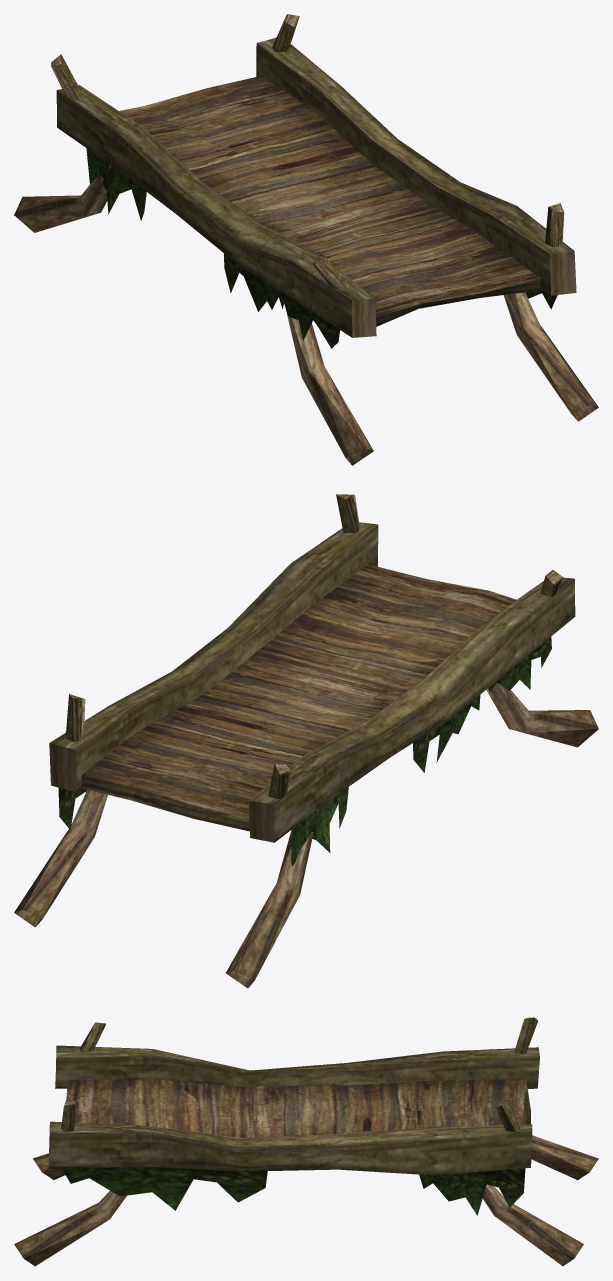
Rendered from general_obj_bridge.fbx.
3 views of the same model, one above another, from view 1: azimuth 30°, elevation 25°; view 2: azimuth 150°, elevation 25°; view 3: azimuth 270°, elevation 25° (orthographic). The views are drawn at different scales.
Visible parts, largest first — view 1: Object09; view 2: Object09; view 3: Object09.
Boxes of the visible parts, left/top/right/bottom form: Object09: left=14, top=14, right=598, bottom=465; Object09: left=14, top=494, right=598, bottom=988; Object09: left=14, top=1017, right=598, bottom=1266.
Size of the model in its own units: 2.59 by 2.04 by 6.58.
